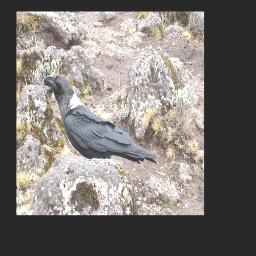Crow: (42, 74, 159, 166)
